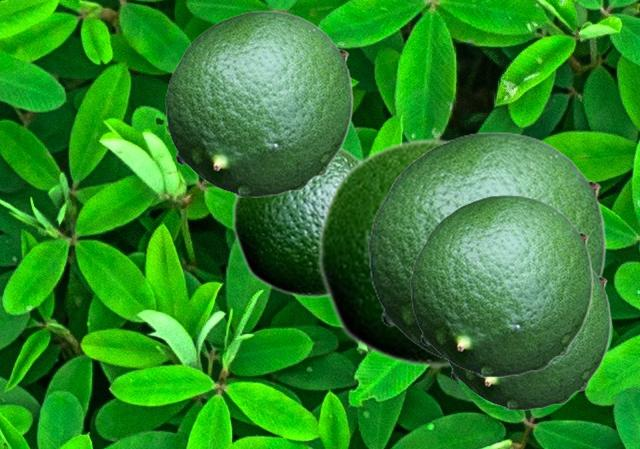calamansi: (368, 131, 605, 363), (165, 10, 352, 196), (410, 194, 592, 376), (316, 137, 455, 368), (444, 267, 610, 409), (231, 146, 359, 298)
